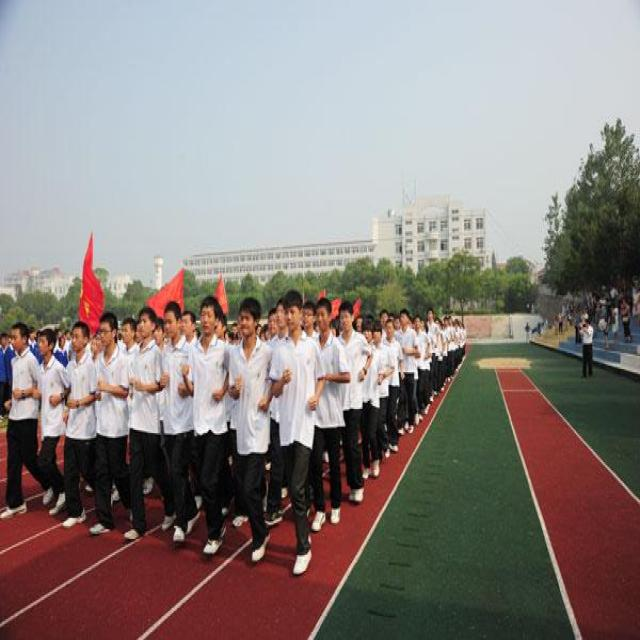non-fight: (224, 295, 274, 563), (181, 293, 230, 553), (310, 296, 364, 524), (0, 319, 57, 518), (58, 318, 109, 531), (124, 306, 170, 538), (367, 313, 403, 468), (576, 308, 597, 377)
